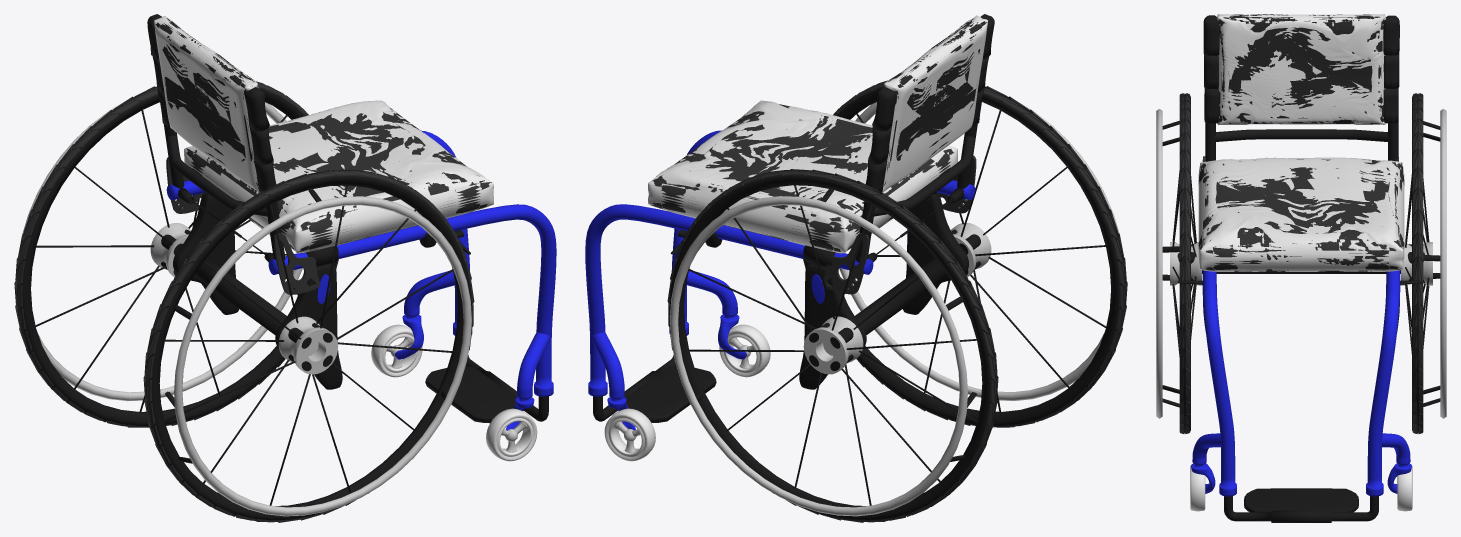
The model's file is WheelchairLowPoly.fbx.
3 views of the same model, side by side, from view 1: azimuth 30°, elevation 25°; view 2: azimuth 150°, elevation 25°; view 3: azimuth 270°, elevation 25° (orthographic). The views are drawn at different scales.
Visible parts, largest first — view 1: Wheel.002, SeatBott.001, Handrail.001, FrontPipes.001, Plane.002, SeatBottLowPoly.001, SeatBack.001, PipeConnector1.001, SeatBackLowPoly.001, Spokes.003, Hub.001, Circle.002 (+9 smaller); view 2: Wheel.002, SeatBott.001, Handrail.001, FrontPipes.001, Plane.002, SeatBottLowPoly.001, SeatBack.001, PipeConnector1.001, SeatBackLowPoly.001, Spokes.002, Hub.001, Circle.002 (+9 smaller); view 3: SeatBott.001, SeatBack.001, FrontPipes.001, SeatBottLowPoly.001, Plane.002, SeatBackLowPoly.001, Handrail.001, Wheel.002, Cube.004, backPipe.001, FootRest.001, FootPipe.001 (+7 smaller).
Part boxes in pixels (<box>): Wheel.002: <box>17,87,472,520</box>; SeatBott.001: <box>184,100,493,253</box>; Handrail.001: <box>18,100,471,516</box>; FrontPipes.001: <box>166,130,556,436</box>; Plane.002: <box>14,81,474,522</box>; SeatBottLowPoly.001: <box>186,108,493,252</box>; SeatBack.001: <box>154,16,259,192</box>; PipeConnector1.001: <box>173,192,342,389</box>; SeatBackLowPoly.001: <box>155,18,258,189</box>; Spokes.003: <box>164,185,459,505</box>; Hub.001: <box>150,223,338,374</box>; Circle.002: <box>371,324,537,461</box>; Wheel.002: <box>669,87,1125,520</box>; SeatBott.001: <box>648,100,957,253</box>; Handrail.001: <box>670,100,1121,516</box>; FrontPipes.001: <box>585,130,975,436</box>; Plane.002: <box>667,80,1127,522</box>; SeatBottLowPoly.001: <box>648,101,953,251</box>; SeatBack.001: <box>882,15,987,192</box>; PipeConnector1.001: <box>799,192,968,389</box>; SeatBackLowPoly.001: <box>884,18,987,185</box>; Spokes.002: <box>688,185,977,505</box>; Hub.001: <box>803,223,991,374</box>; Circle.002: <box>604,324,770,461</box>; SeatBott.001: <box>1198,157,1404,271</box>; SeatBack.001: <box>1217,14,1386,124</box>; FrontPipes.001: <box>1191,270,1411,496</box>; SeatBottLowPoly.001: <box>1198,159,1404,271</box>; Plane.002: <box>1179,93,1423,433</box>; SeatBackLowPoly.001: <box>1218,14,1385,124</box>; Handrail.001: <box>1156,109,1446,418</box>; Wheel.002: <box>1179,94,1423,433</box>; Cube.004: <box>1203,15,1399,123</box>; backPipe.001: <box>1205,54,1398,161</box>; FootRest.001: <box>1244,488,1358,512</box>; FootPipe.001: <box>1224,496,1378,522</box>.
Size of the model in its own units: 977 by 928 by 632.
